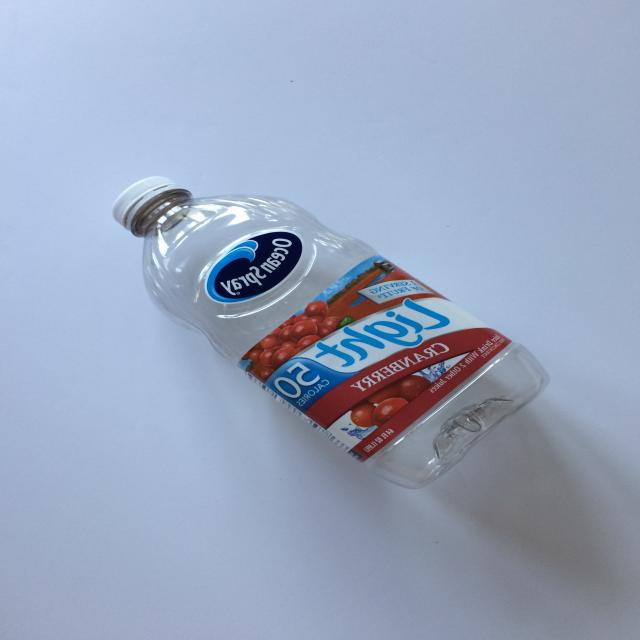plastic: (112, 174, 551, 490)
